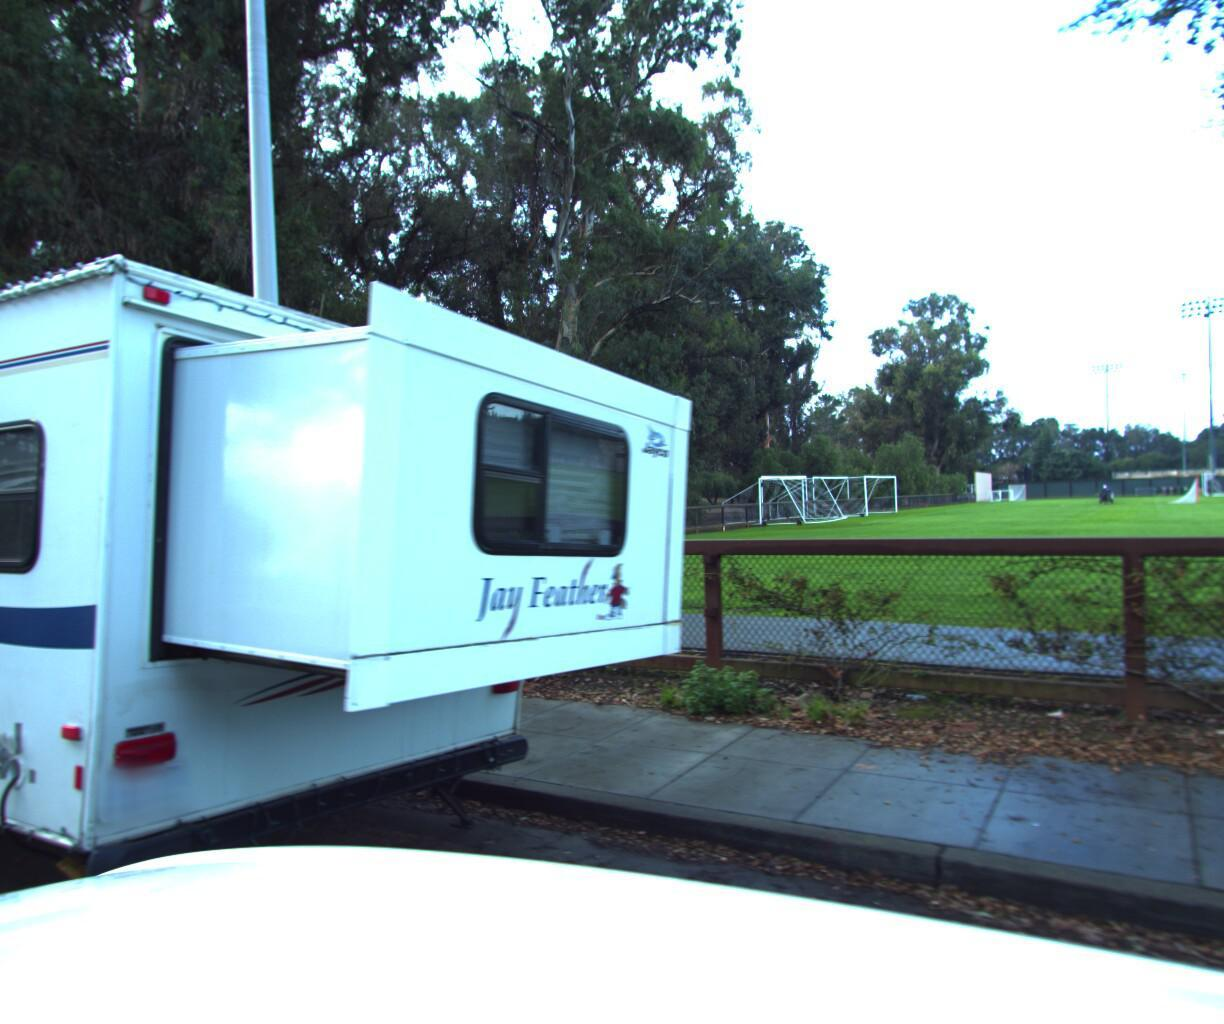other_vehicle: (0, 57, 754, 1024)
